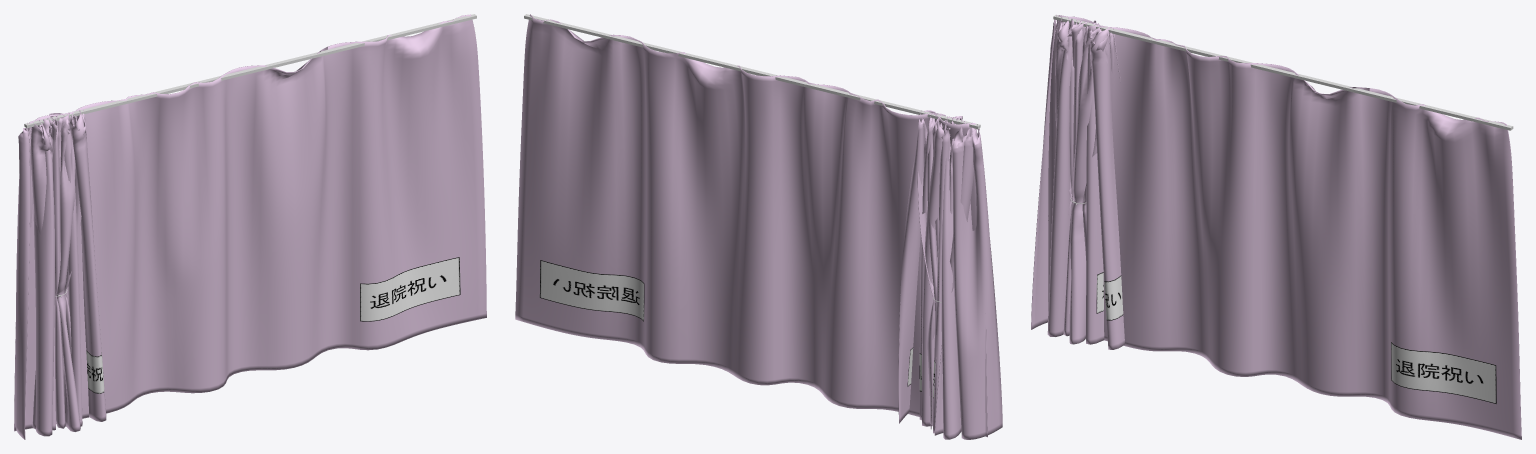
Rendered from Curtain2.fbx.
3 renders of one model, left to right at view 1: azimuth 30°, elevation 25°; view 2: azimuth 150°, elevation 25°; view 3: azimuth 330°, elevation 25°, orthographic.
Parts seen in each view (by area): view 1: Set2_Open, Set2_Close, Set2_CloseTie, Rale; view 2: Set2_Open, Set2_Close, Set2_CloseTie, Rale; view 3: Set2_Open, Set2_Close, Set2_CloseTie, Rale.
Boxes of the visible parts, x1=… form: Set2_Open: x1=14, y1=14, x2=486, y2=431; Set2_Close: x1=15, y1=109, x2=106, y2=439; Set2_CloseTie: x1=28, y1=110, x2=86, y2=431; Rale: x1=24, y1=14, x2=476, y2=128; Set2_Open: x1=515, y1=14, x2=987, y2=437; Set2_Close: x1=898, y1=110, x2=1002, y2=439; Set2_CloseTie: x1=917, y1=111, x2=976, y2=435; Rale: x1=524, y1=14, x2=980, y2=129; Set2_Open: x1=1048, y1=15, x2=1521, y2=439; Set2_Close: x1=1031, y1=14, x2=1124, y2=349; Set2_CloseTie: x1=1055, y1=17, x2=1115, y2=344; Rale: x1=1053, y1=15, x2=1513, y2=130.
Bounding box in the file's own units: 9.54 × 5.94 × 1.19.
2 materials, 1 textured.
